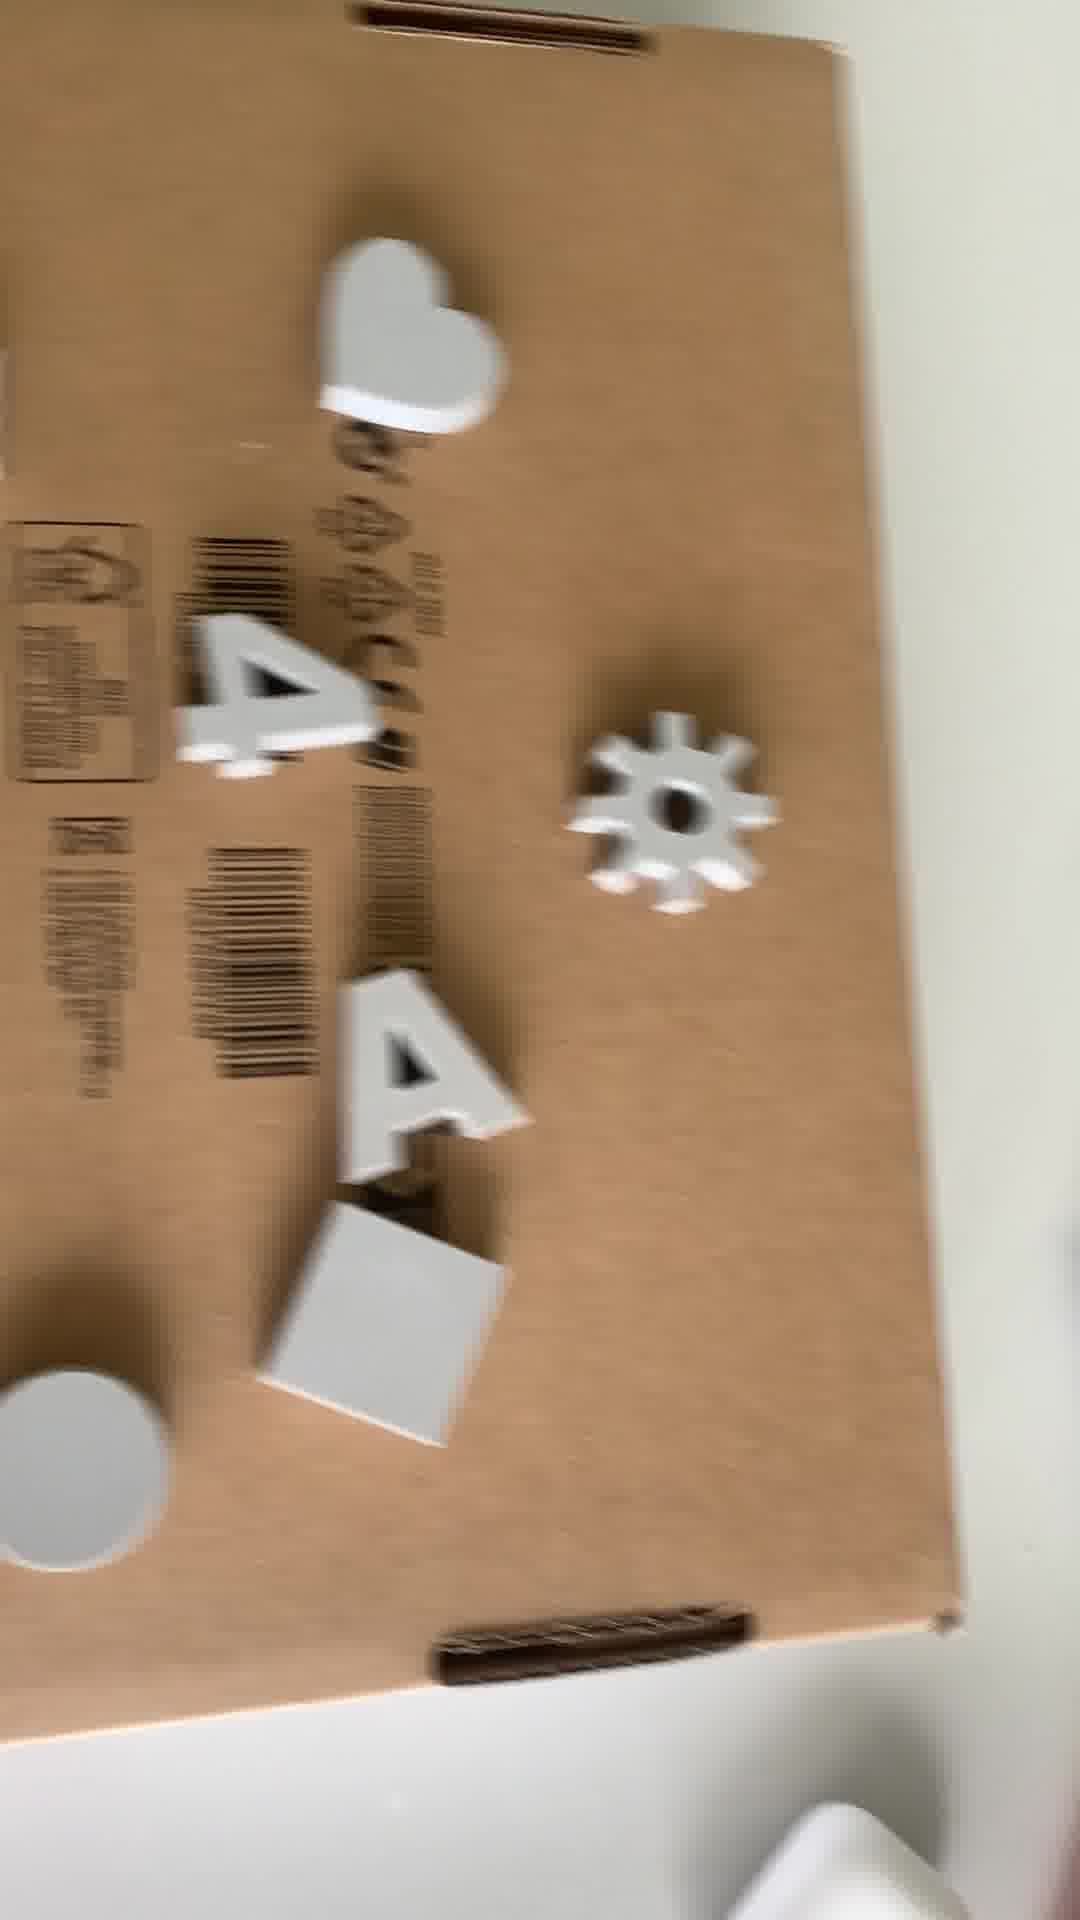Gray A-letter: (328, 959, 516, 1187)
Gray circle: (1, 1365, 179, 1582)
Gray four: (164, 603, 384, 803)
Gray gear: (580, 719, 778, 924)
Gray heart: (310, 243, 533, 440)
Gray square: (249, 1212, 512, 1437)
